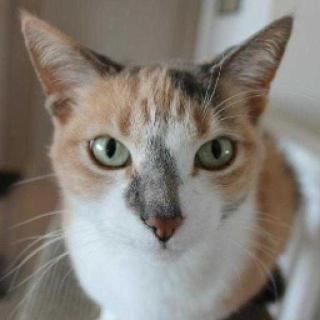cat: (29, 11, 295, 271)
nose: (135, 166, 190, 245)
